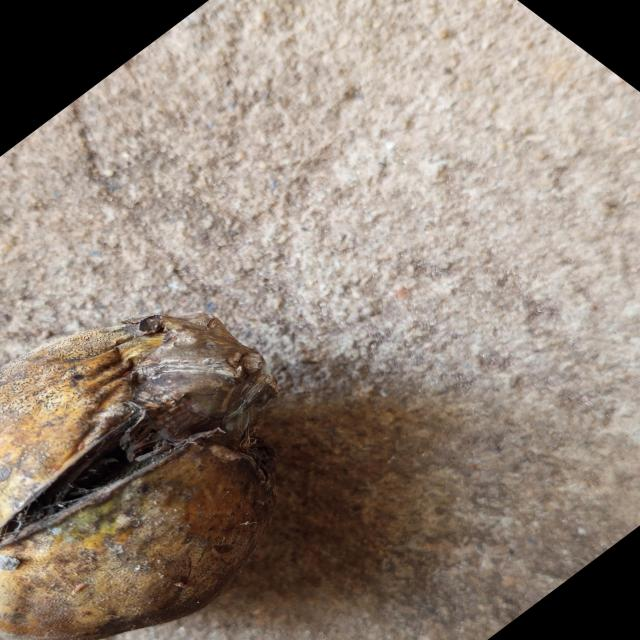damaged: (0, 314, 278, 640)
